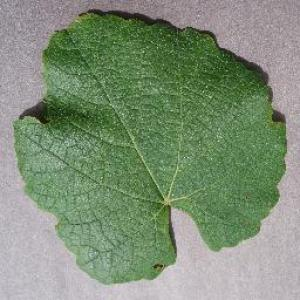Folha: (12, 7, 287, 285)
